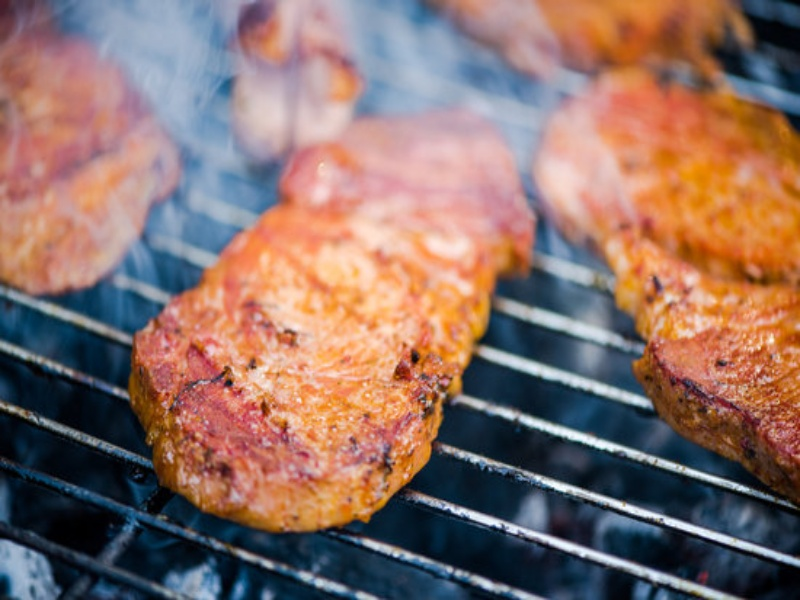smoke: (87, 1, 520, 160)
